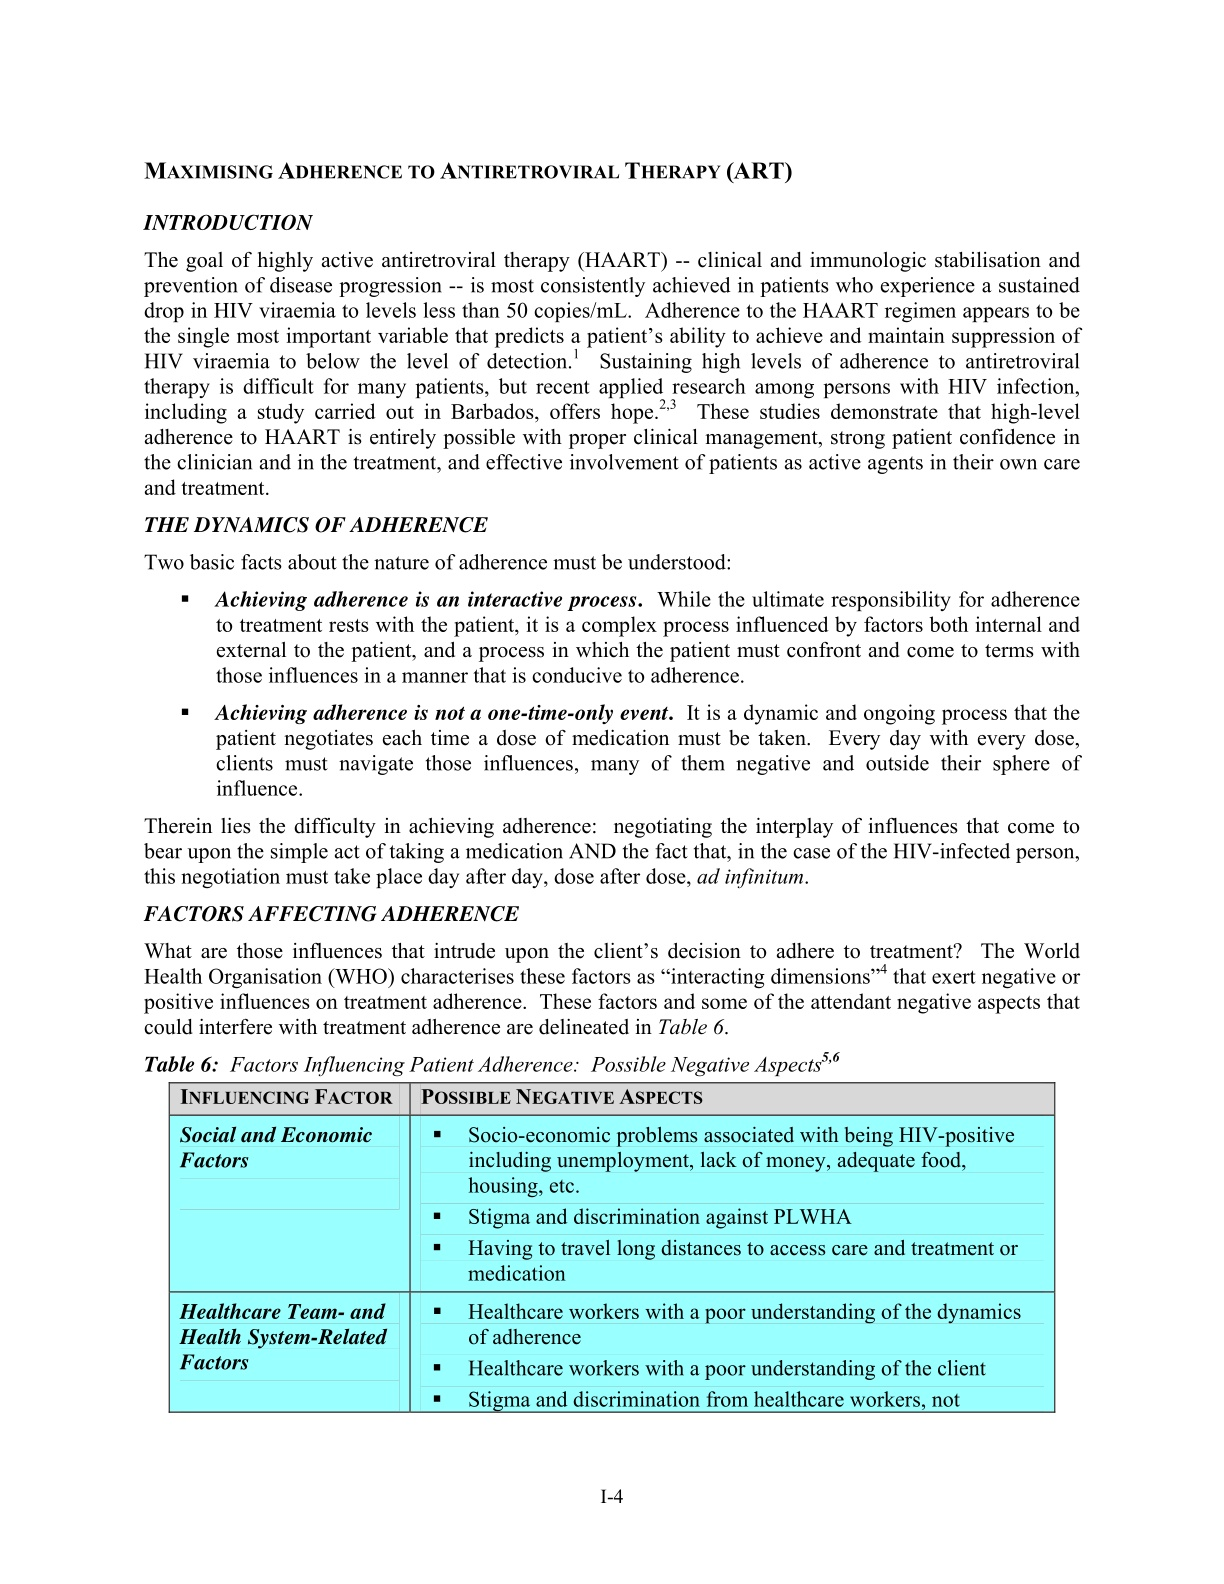full_lined: (168, 1081, 1056, 1414)
